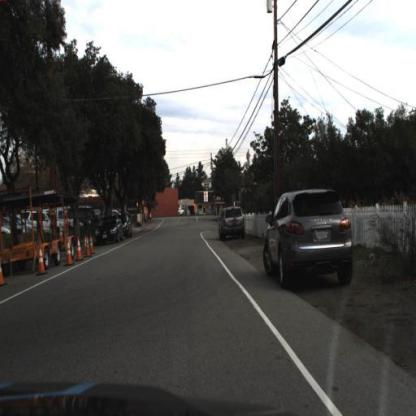car: (263, 186, 354, 291), (1, 213, 43, 244), (93, 212, 124, 247), (218, 207, 249, 242), (219, 204, 246, 243), (94, 213, 121, 247), (119, 211, 132, 241)
truck: (1, 194, 74, 271)
